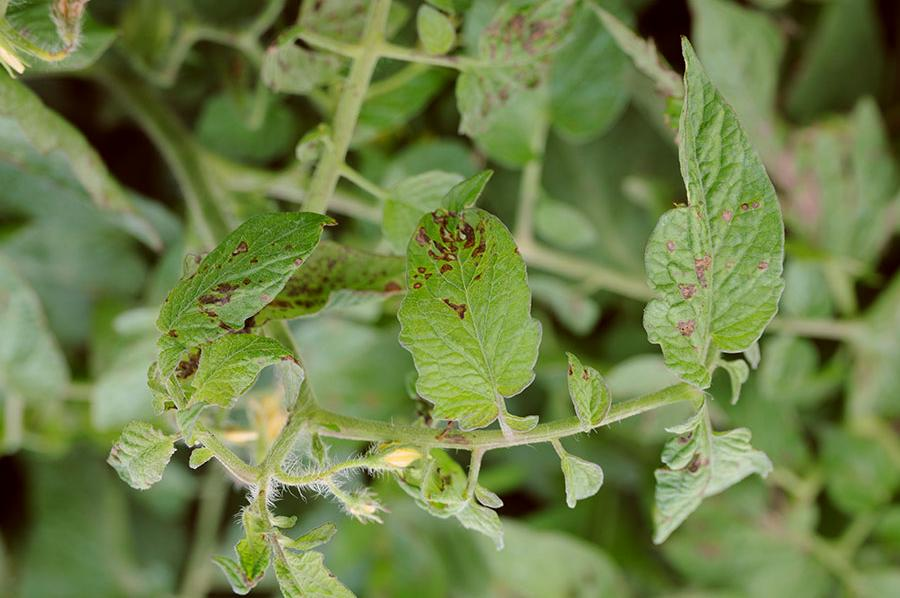Tomato leaf bacterial spot: (636, 18, 790, 374), (407, 168, 546, 429), (139, 187, 304, 388)
